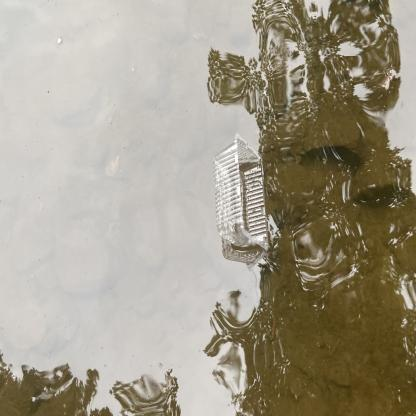trash: (212, 130, 272, 260)
